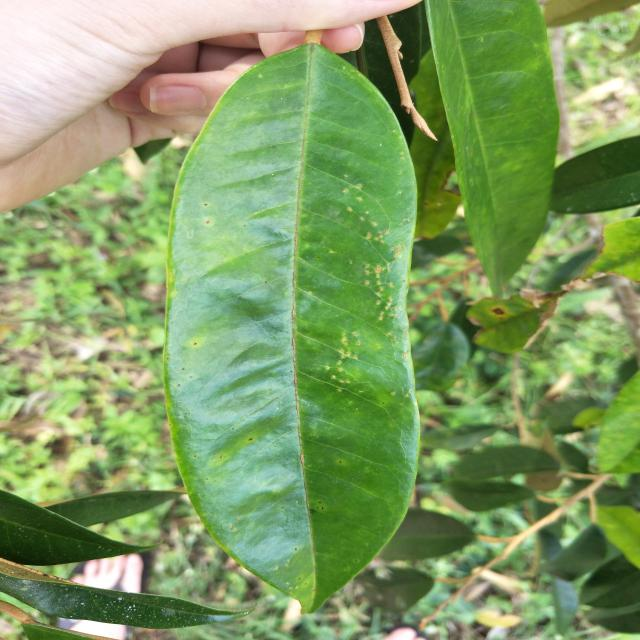Leaf Spot: (315, 190, 406, 394)
